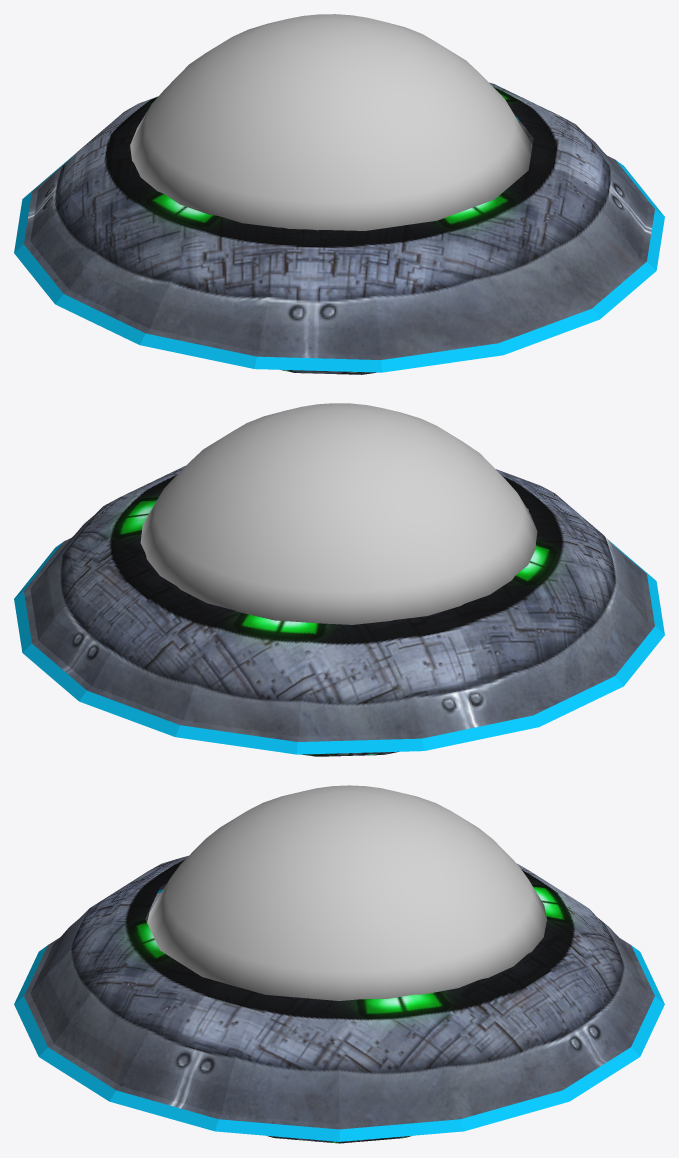
The model's file is UFO Ship -Crashed.fbx.
3 views of the same model, one above another, from view 1: azimuth 30°, elevation 25°; view 2: azimuth 150°, elevation 25°; view 3: azimuth 270°, elevation 25° (orthographic).
Visible parts, largest first — view 1: Body, UFO_cockpit; view 2: Body, UFO_cockpit; view 3: Body, UFO_cockpit.
Boxes of the visible parts, left/top/right/bottom form: Body: left=14, top=82, right=664, bottom=374; UFO_cockpit: left=130, top=14, right=532, bottom=230; Body: left=14, top=465, right=664, bottom=756; UFO_cockpit: left=140, top=403, right=537, bottom=624; Body: left=14, top=855, right=664, bottom=1143; UFO_cockpit: left=147, top=785, right=547, bottom=1000.
Bounding box in the file's own units: 381 × 172 × 381.
